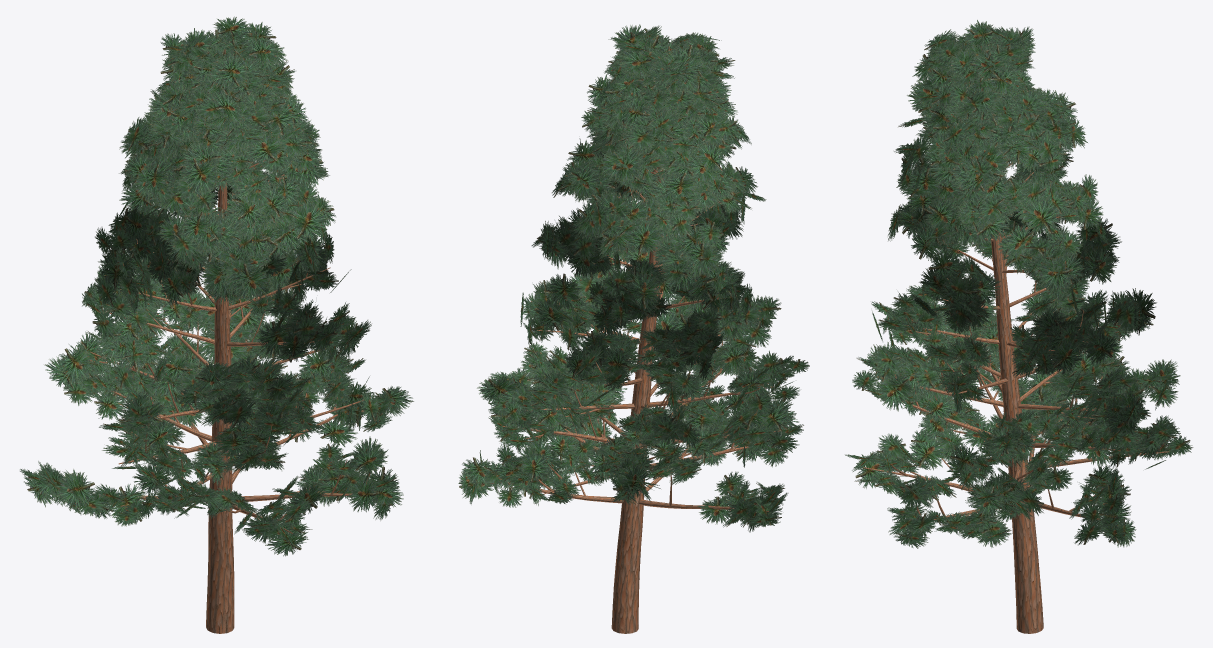
File: tree-pine-b.glb
3 renders of one model, left to right at view 1: azimuth 30°, elevation 25°; view 2: azimuth 150°, elevation 25°; view 3: azimuth 270°, elevation 25°, orthographic. The views are drawn at different scales.
Visible parts, largest first — view 1: leaves, bark; view 2: leaves, bark; view 3: leaves, bark.
Boxes of the visible parts, x1,y1,x2,y2 form: leaves: (20, 16, 413, 556); bark: (75, 49, 370, 633); leaves: (458, 24, 809, 532); bark: (466, 46, 779, 633); leaves: (845, 20, 1193, 548); bark: (863, 46, 1169, 633).
Size of the model in its own units: 8.79 by 14.36 by 7.91.
Materials: 2 (2 with a texture image).
